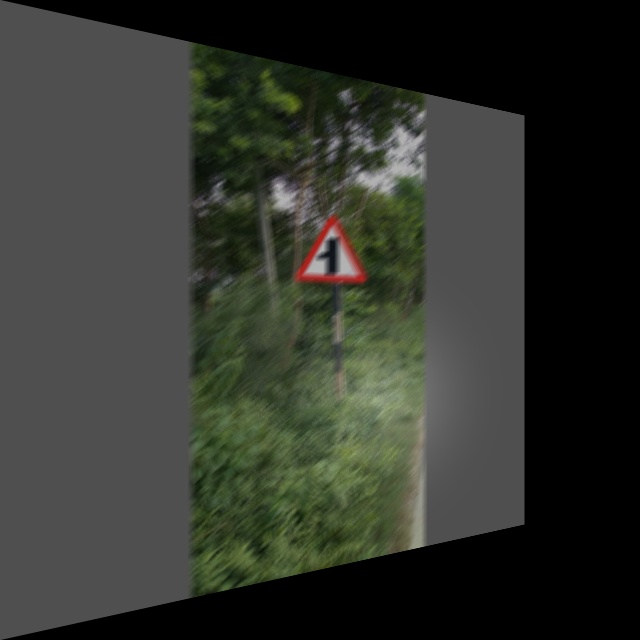Side_Road_Left: (292, 212, 362, 283)
